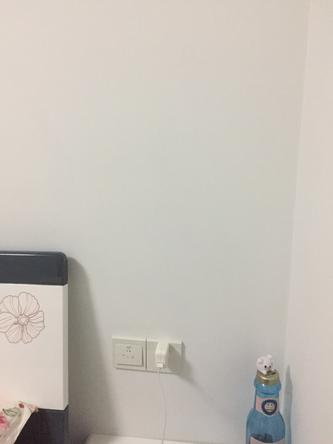switch: (114, 342, 144, 365)
